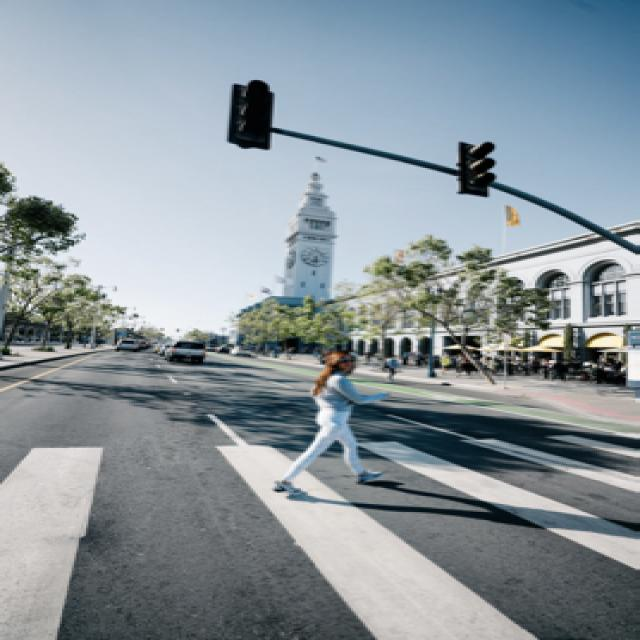trafficlight: (225, 78, 272, 150), (452, 136, 494, 198)
